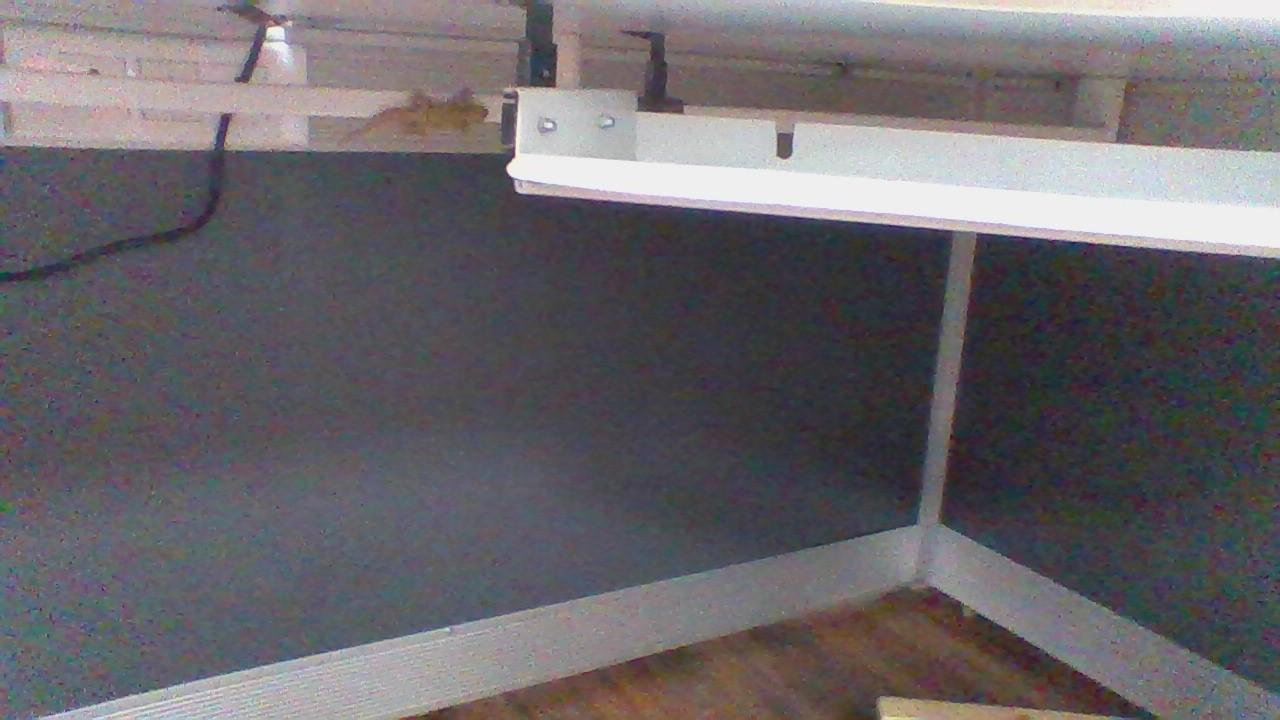cockroach: (215, 0, 294, 37)
lizard: (332, 80, 494, 151)
